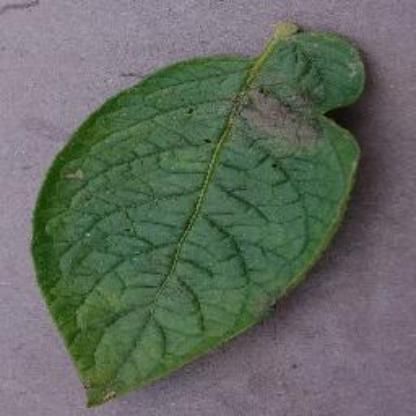Late-Blight: (29, 18, 369, 406)
